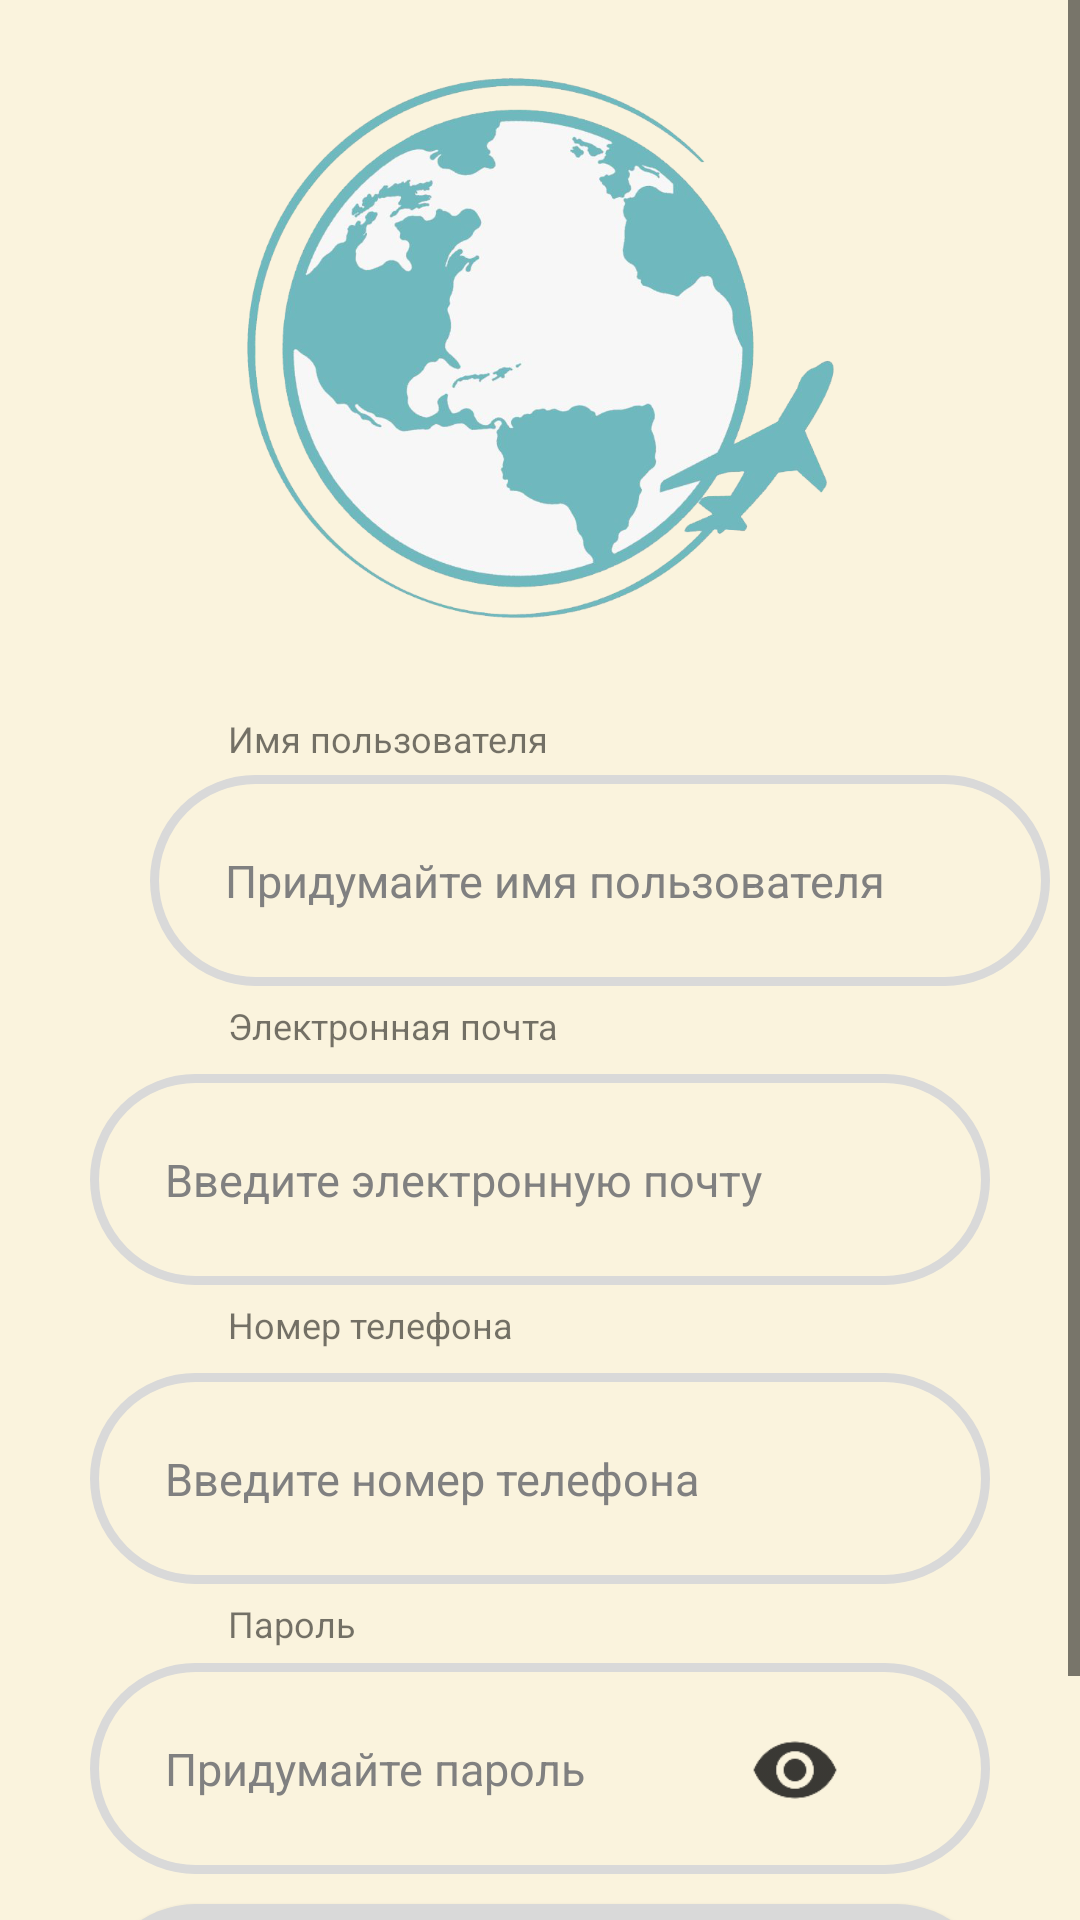

Icons on this 1080px×1920px Android screen, each with its box as (x1, y1, x2, y2):
eye on: (753, 1741, 837, 1799)
